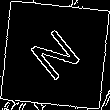N_SE: (24, 23, 86, 87)
